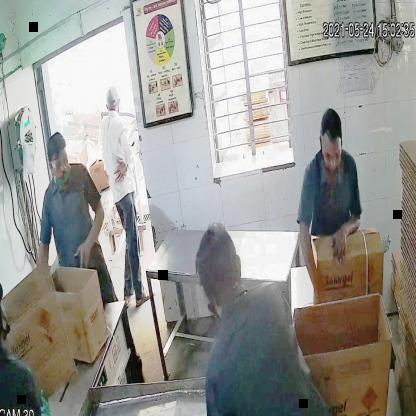goggles: (46, 152, 71, 172)
